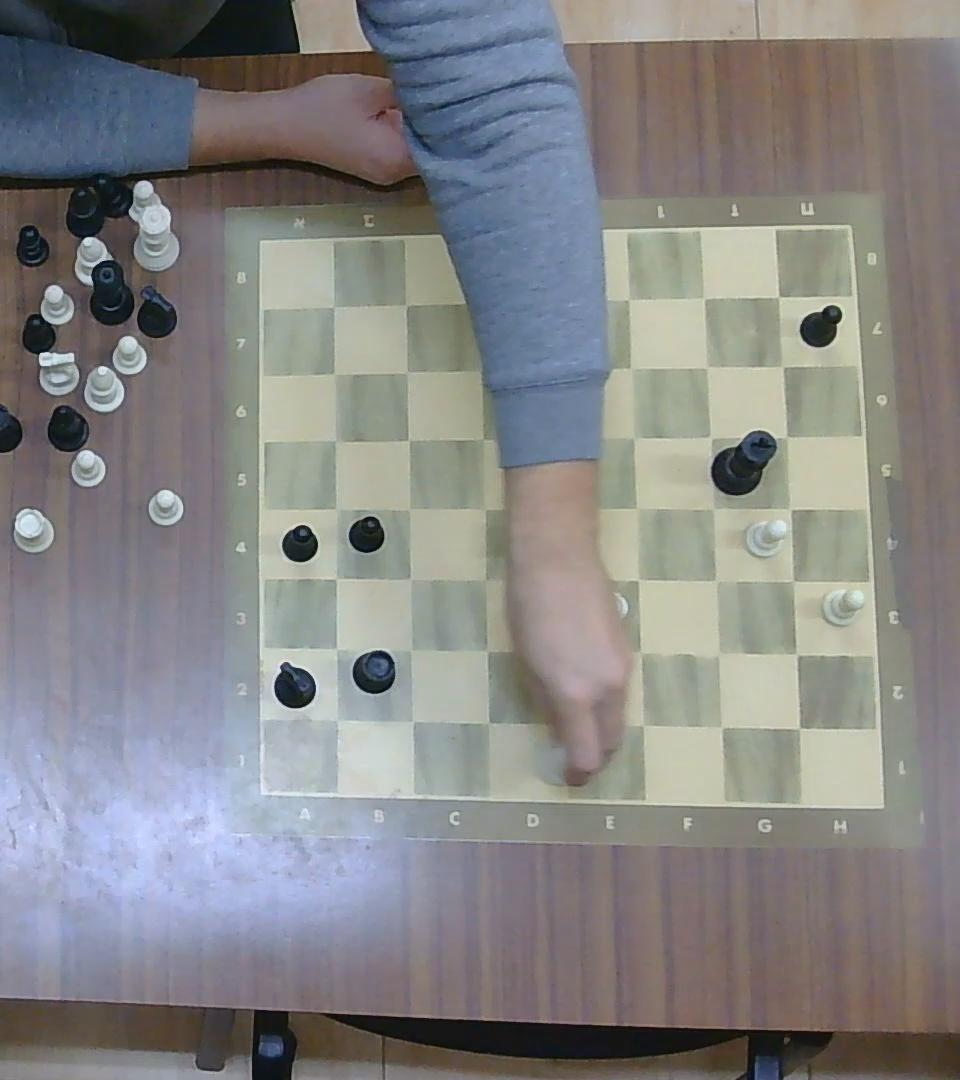xcorner: (781, 711, 815, 743), (702, 636, 734, 669), (705, 708, 736, 742), (776, 564, 808, 596), (546, 708, 579, 739), (457, 285, 488, 318), (626, 707, 657, 739), (781, 638, 812, 670), (320, 703, 352, 734), (542, 282, 573, 314), (472, 706, 502, 738), (626, 635, 656, 667), (548, 635, 578, 667), (700, 563, 730, 594), (470, 563, 500, 594), (321, 632, 351, 663), (547, 563, 577, 594), (320, 563, 350, 593), (466, 354, 496, 384), (623, 563, 652, 594), (397, 705, 426, 735), (472, 634, 501, 664), (615, 283, 644, 313), (698, 493, 728, 522), (319, 290, 348, 320), (548, 494, 577, 524), (619, 421, 647, 452), (545, 421, 573, 452), (395, 635, 424, 664), (776, 493, 805, 522), (320, 358, 349, 387), (616, 351, 645, 380), (392, 289, 420, 318), (691, 282, 719, 311), (395, 493, 423, 522), (769, 351, 797, 380), (693, 351, 721, 380), (623, 493, 651, 522), (393, 356, 421, 385), (469, 424, 497, 453), (542, 351, 569, 381), (395, 564, 423, 592), (698, 422, 725, 451), (395, 425, 423, 452), (472, 493, 498, 522), (773, 421, 800, 448), (323, 426, 349, 453), (324, 494, 350, 521), (766, 283, 791, 310)
